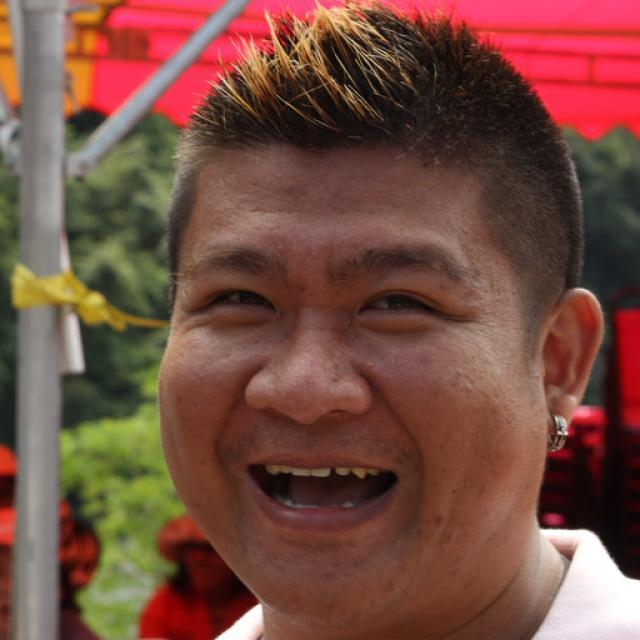0_rostro_limpio: (160, 8, 604, 623)
